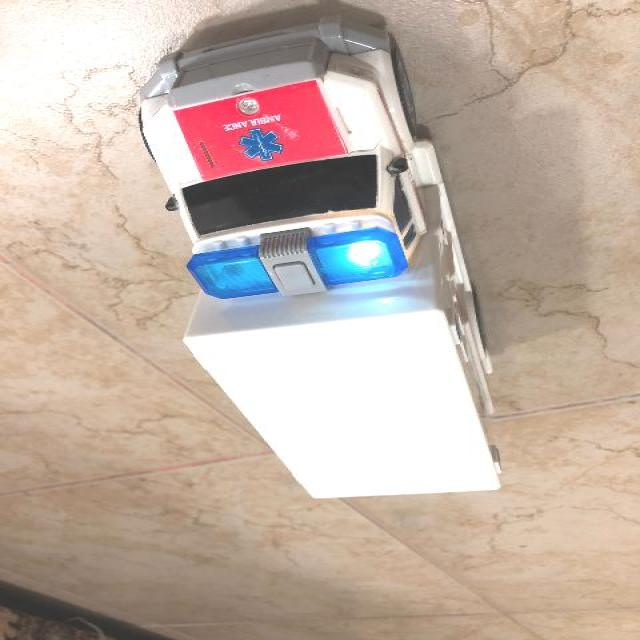emergency-vehicle: (140, 22, 503, 498)
